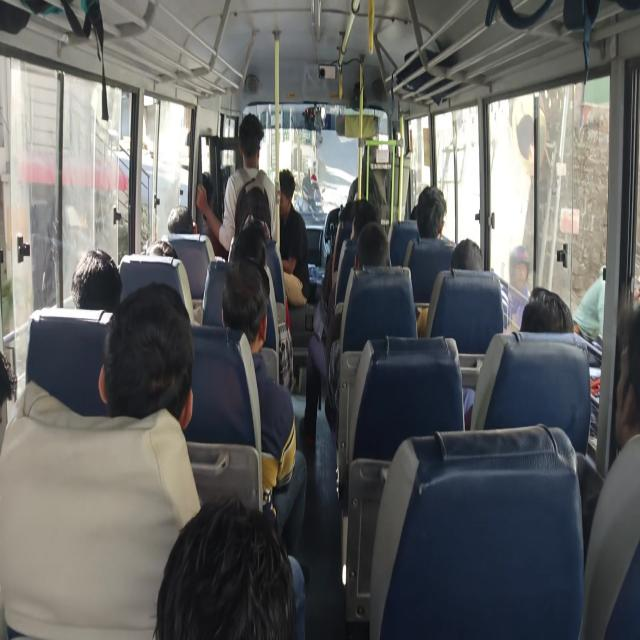person: (0, 281, 201, 638), (221, 257, 307, 554), (153, 496, 304, 639), (579, 304, 639, 638), (300, 199, 378, 446), (98, 281, 194, 432), (520, 286, 601, 438), (195, 112, 278, 256), (275, 168, 310, 307), (70, 248, 122, 312), (572, 267, 606, 342), (520, 287, 573, 334), (506, 245, 531, 328), (416, 185, 448, 240), (356, 221, 390, 268), (449, 238, 484, 271), (167, 205, 194, 234), (146, 238, 177, 258)
